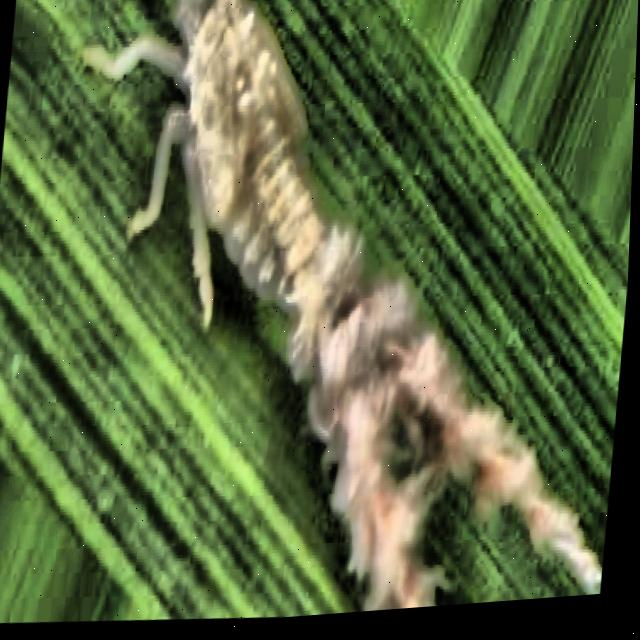Pyrilla-perpusilla: (61, 0, 640, 635)
